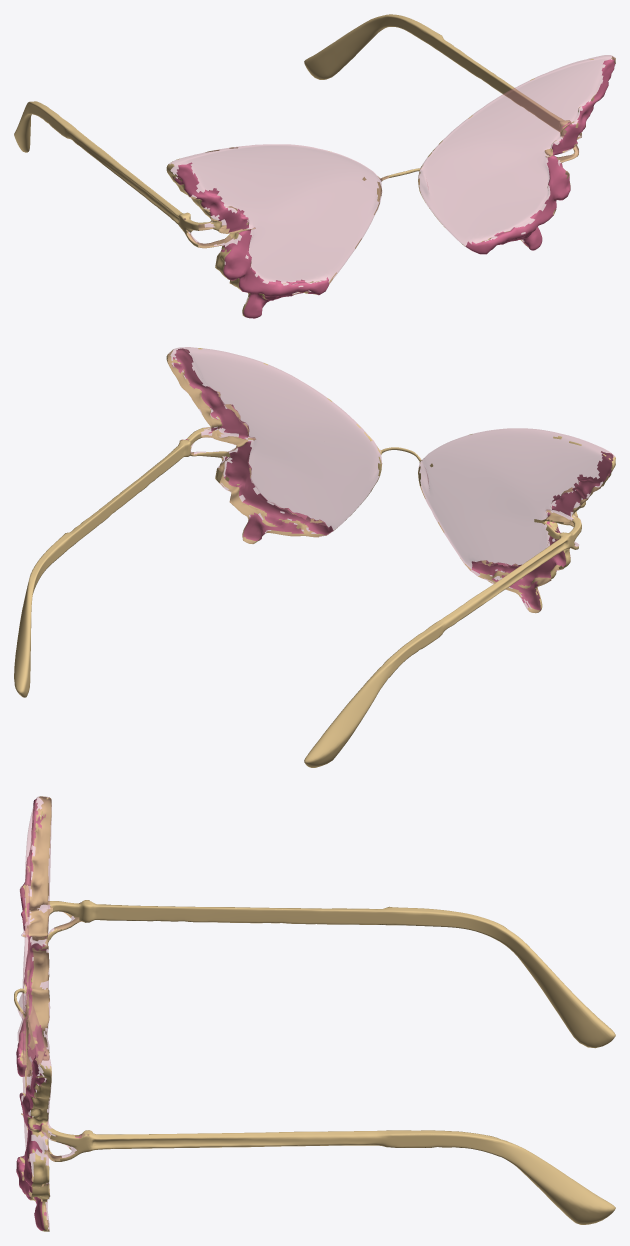
Rendered from glass3.glb.
3 views of the same model, one above another, from view 1: azimuth 30°, elevation 25°; view 2: azimuth 150°, elevation 25°; view 3: azimuth 270°, elevation 25° (orthographic). The views are drawn at different scales.
Parts seen in each view (by area): view 1: model; view 2: model; view 3: model.
Part boxes in pixels (<box>): model: <box>14,14,615,318</box>; model: <box>14,347,615,767</box>; model: <box>14,796,615,1231</box>.
Size of the model in its own units: 1.9 by 0.727 by 1.78.
